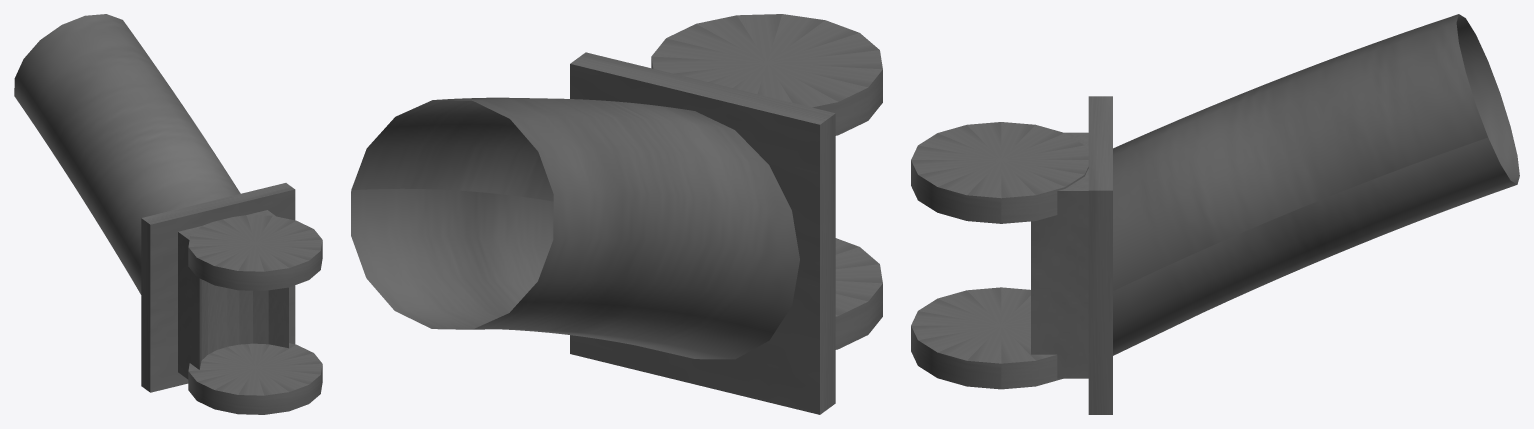
Rendered from mastarmcurve_4x1_c0_thin.obj.
3 renders of one model, left to right at view 1: azimuth 30°, elevation 25°; view 2: azimuth 150°, elevation 25°; view 3: azimuth 270°, elevation 25°, orthographic. The views are drawn at different scales.
Visible parts, largest first — view 1: mastarm_4x1_c0_thin; view 2: mastarm_4x1_c0_thin; view 3: mastarm_4x1_c0_thin.
Boxes of the visible parts, box(x1,y1,x2,y2) form: mastarm_4x1_c0_thin: box(14, 14, 322, 414); mastarm_4x1_c0_thin: box(351, 14, 882, 414); mastarm_4x1_c0_thin: box(911, 14, 1519, 414).
Size of the model in its own units: 0.6875 by 1.17 by 1.88.
